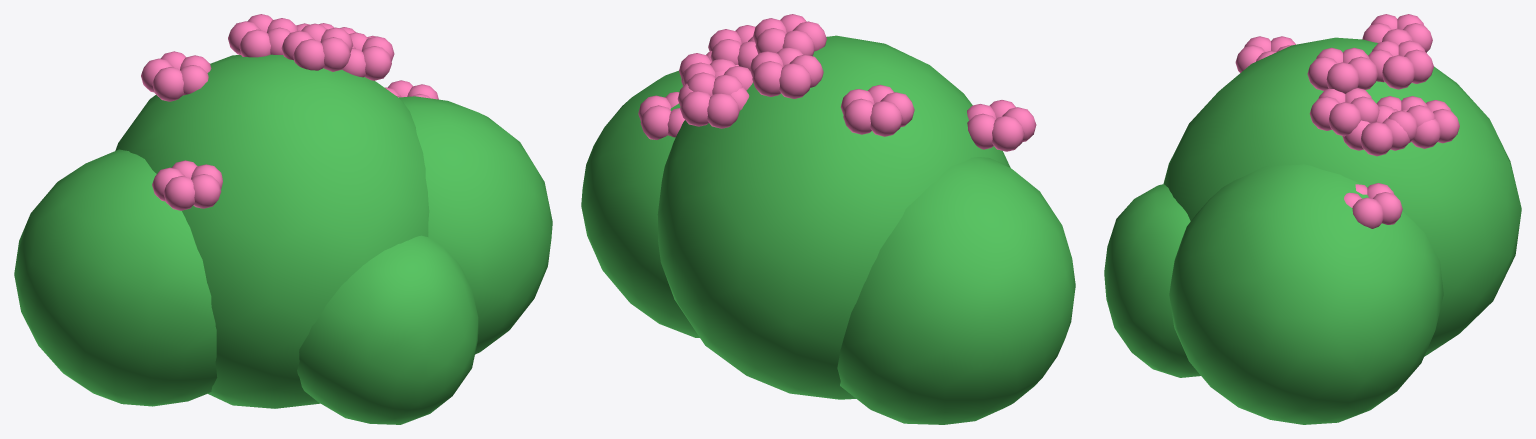
File: Bush.obj
3 views of the same model, side by side, from view 1: azimuth 30°, elevation 25°; view 2: azimuth 150°, elevation 25°; view 3: azimuth 270°, elevation 25° (orthographic). The views are drawn at different scales.
Parts seen in each view (by area): view 1: Leaves, Flowers; view 2: Leaves, Flowers; view 3: Leaves, Flowers.
Boxes of the visible parts, box(x1,y1,x2,y2) form: Leaves: box(14, 54, 552, 424); Flowers: box(141, 14, 438, 210); Leaves: box(581, 35, 1075, 424); Flowers: box(638, 14, 1036, 151); Leaves: box(1104, 37, 1521, 424); Flowers: box(1235, 14, 1459, 228).
Bounding box in the file's own units: 6.79 × 4.65 × 5.27.
